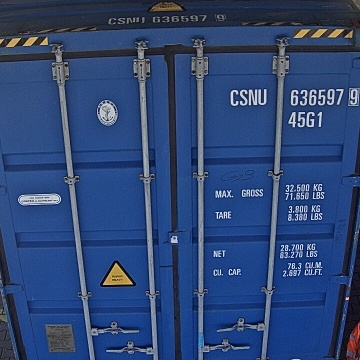serial_id: (230, 88, 359, 105)
